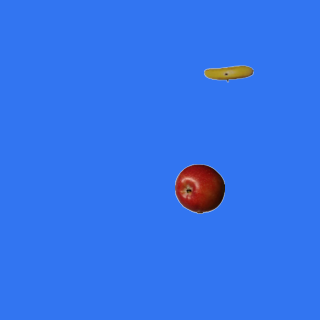Apple Braeburn: (174, 163, 224, 213)
Banana: (203, 48, 253, 98)
